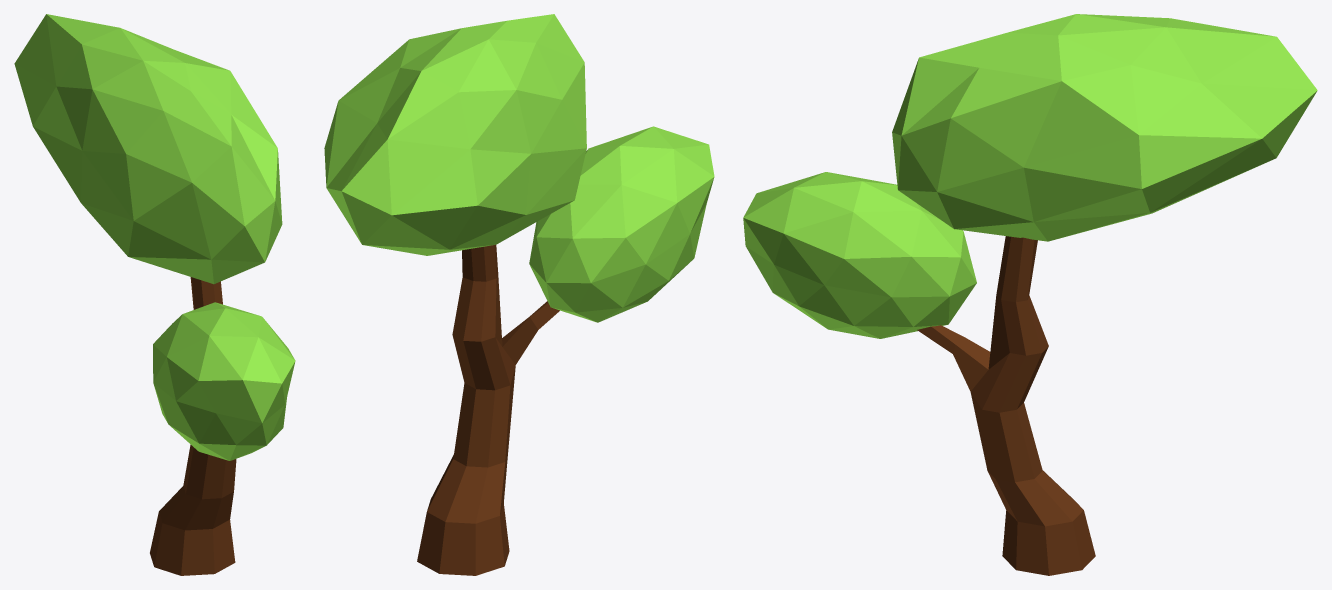
The model's file is tree1.fbx.
3 renders of one model, left to right at view 1: azimuth 30°, elevation 25°; view 2: azimuth 150°, elevation 25°; view 3: azimuth 270°, elevation 25°, orthographic. The views are drawn at different scales.
Parts seen in each view (by area): view 1: Icosphere; view 2: Icosphere; view 3: Icosphere.
Part boxes in pixels (x1,y1,x2,y2): Icosphere: (14, 14, 295, 575); Icosphere: (324, 14, 714, 575); Icosphere: (743, 14, 1317, 575).
Bounding box in the file's own units: 1178 × 2828 × 2813.
